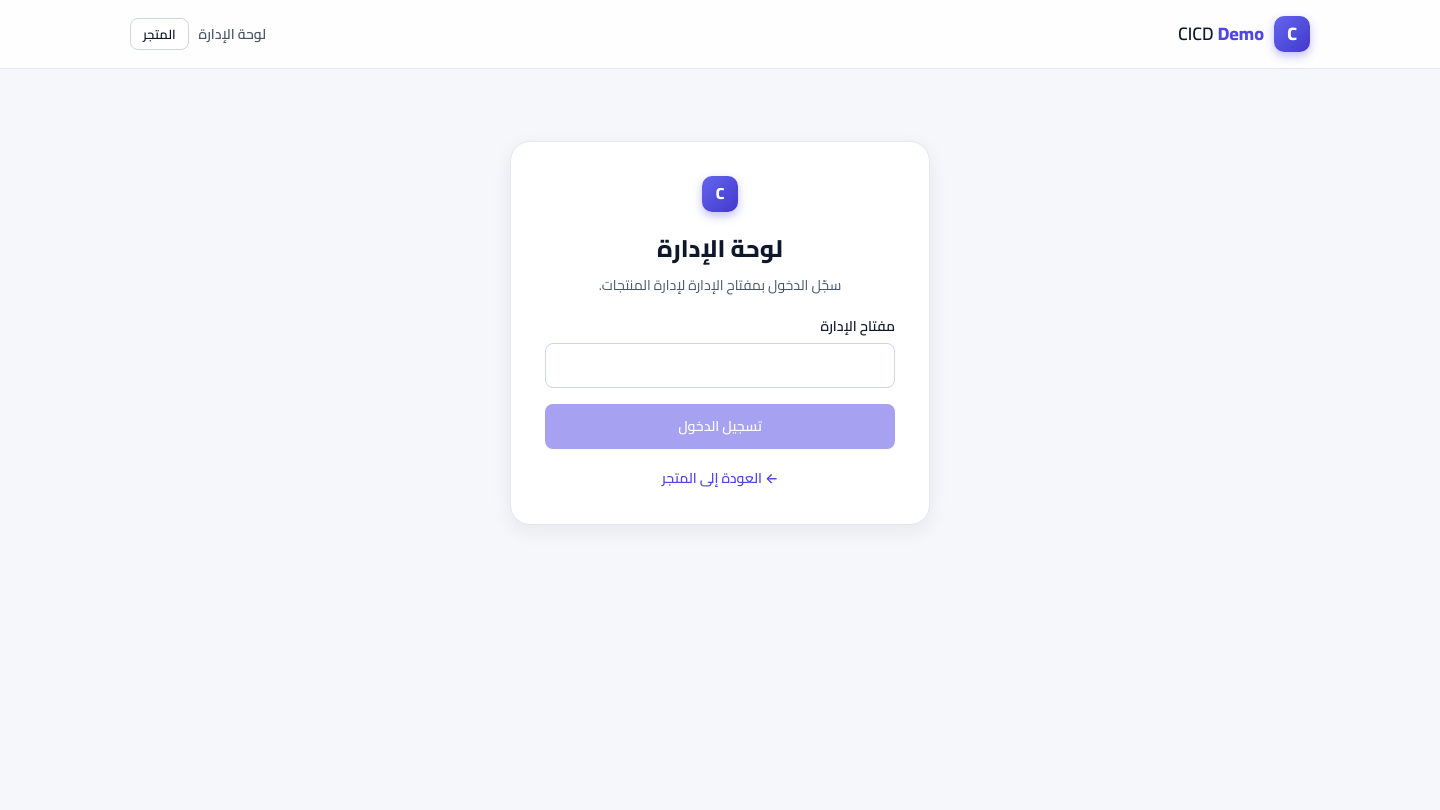
AdminPage › shows an error and stays logged out for a wrong key
The image size is (1440, 810).
Type "bad-key" into the password field labelled "مفتاح الإدارة".
click(720, 365); type("bad-key")  # box [545,343,895,388]
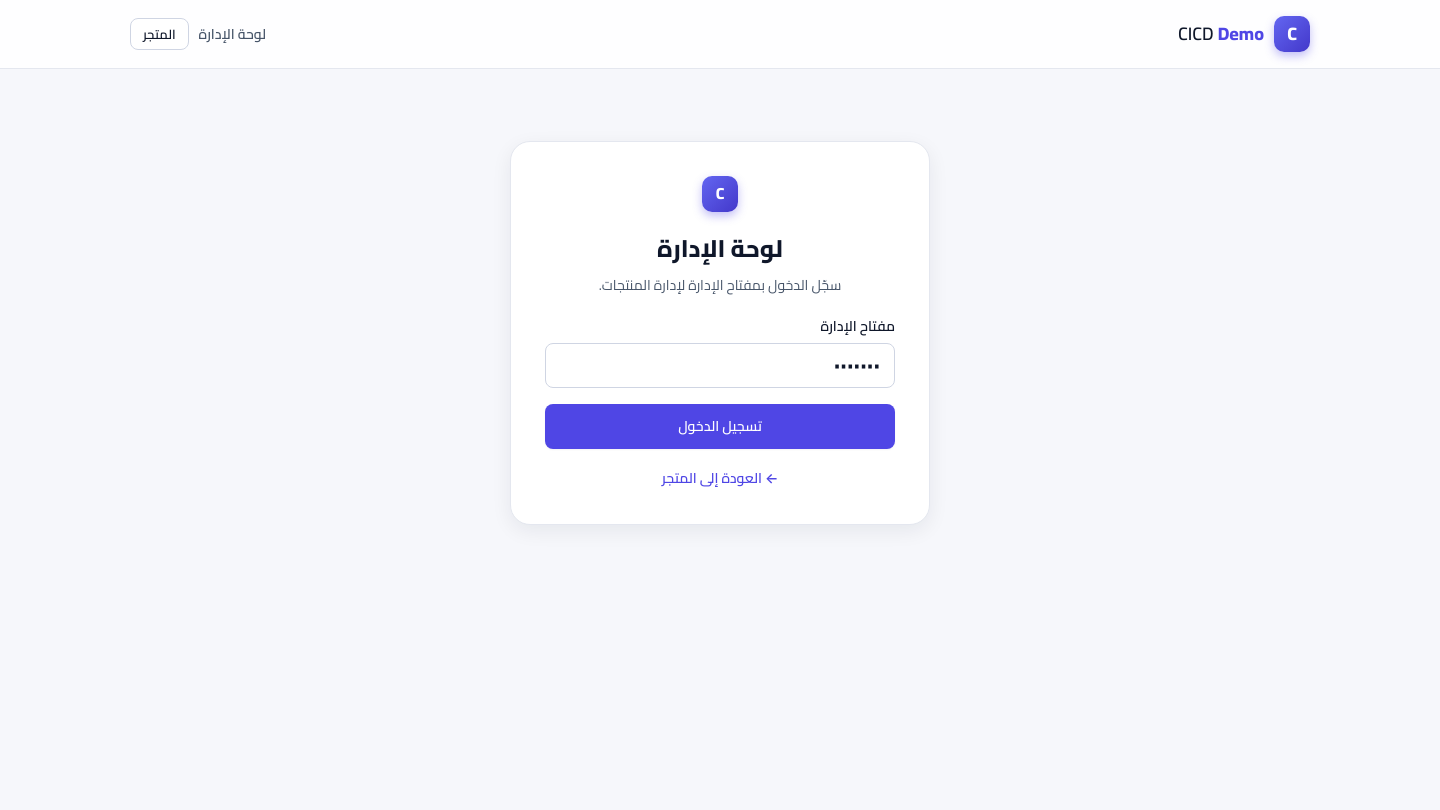
Submit the form, box [510,141,930,524]
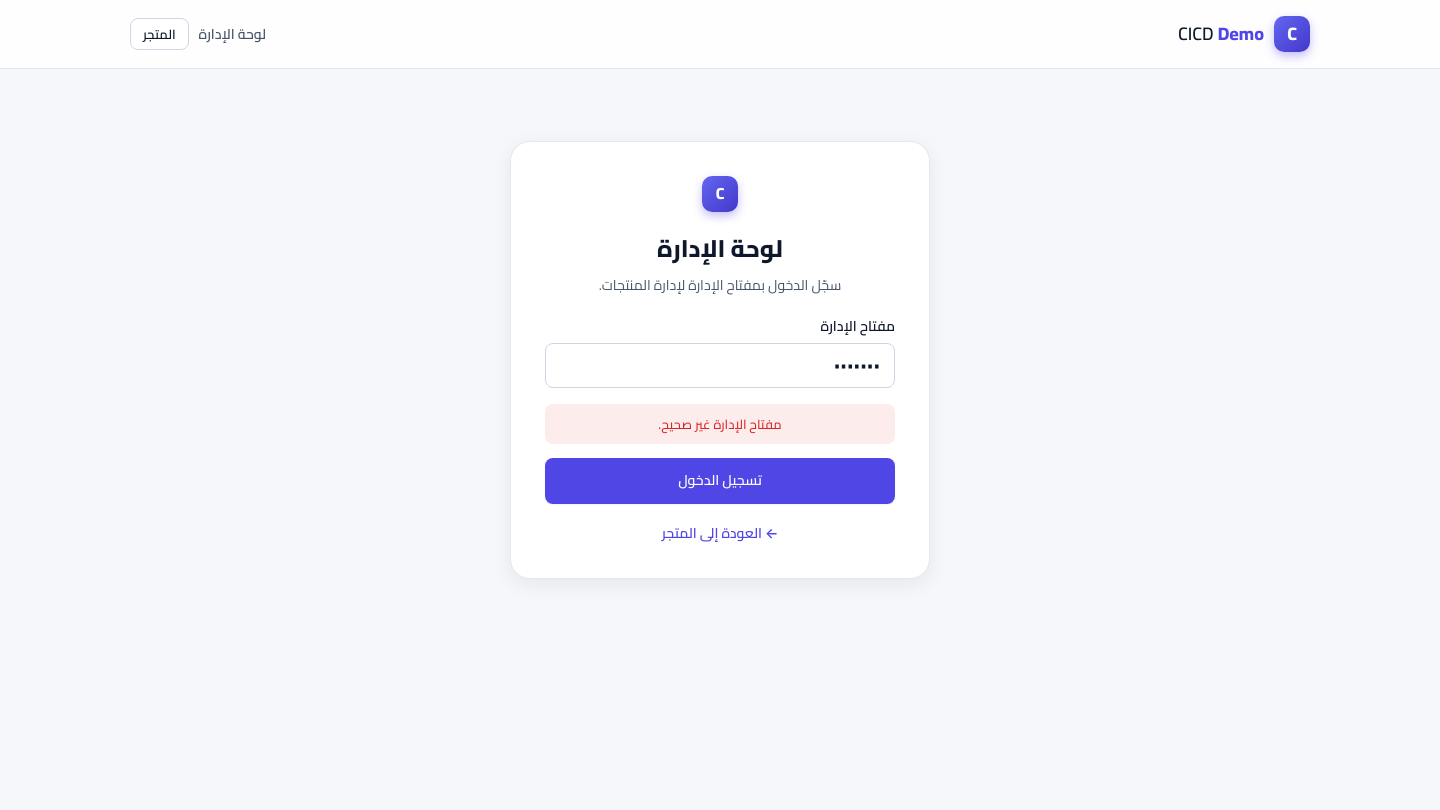
expect the message "مفتاح الإدارة غير صحيح." is shown: met, box [545,404,895,444]
